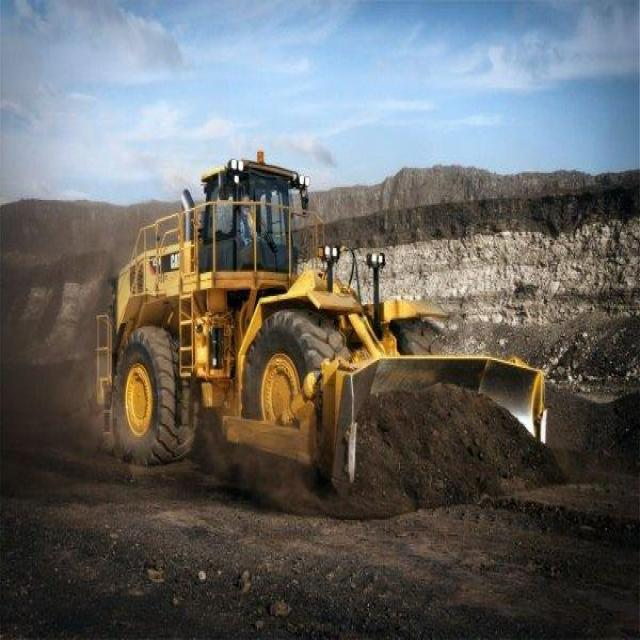buldozerpayloadergrader: (88, 118, 559, 528)
